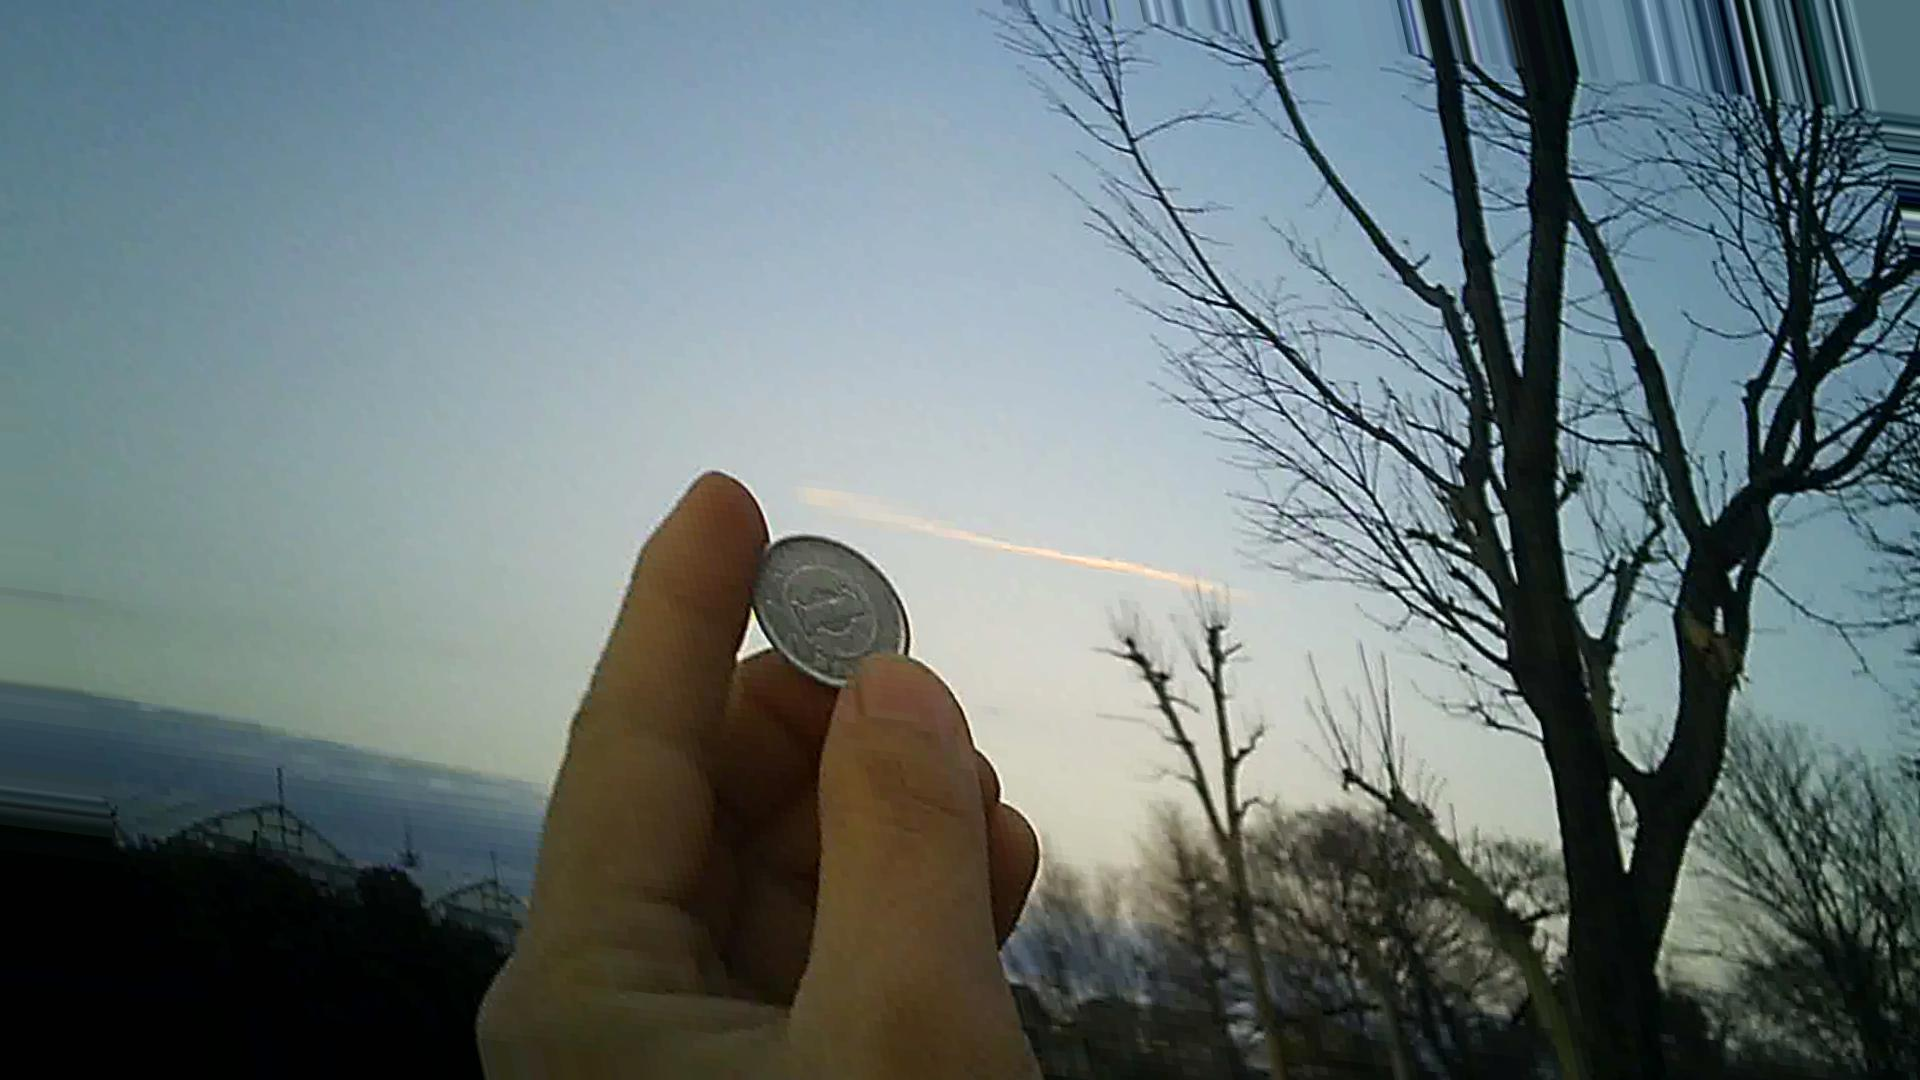1 Yen: (742, 521, 955, 692)
